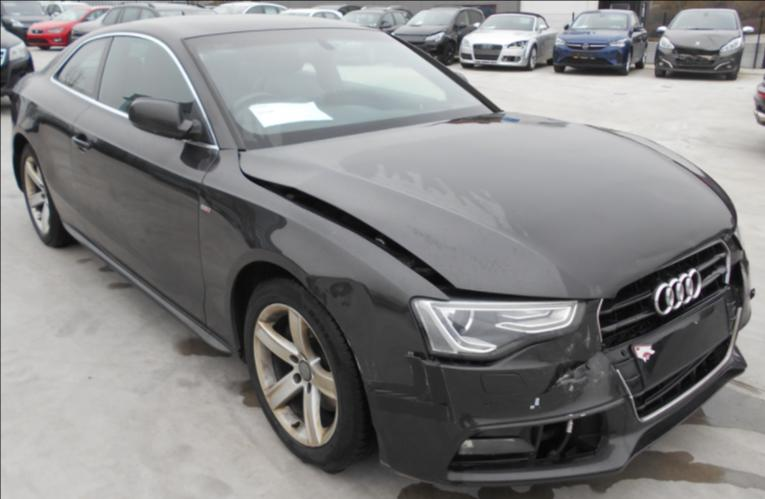Broken part: (361, 227, 753, 481), (237, 167, 599, 302)
Dent: (305, 275, 419, 385), (576, 221, 733, 296), (603, 374, 621, 400)
Missing part: (634, 299, 728, 387)
Paint chip: (565, 410, 573, 436), (530, 396, 540, 408)
Scratch: (554, 361, 605, 394), (346, 332, 379, 382), (582, 323, 591, 345), (566, 344, 575, 362)
